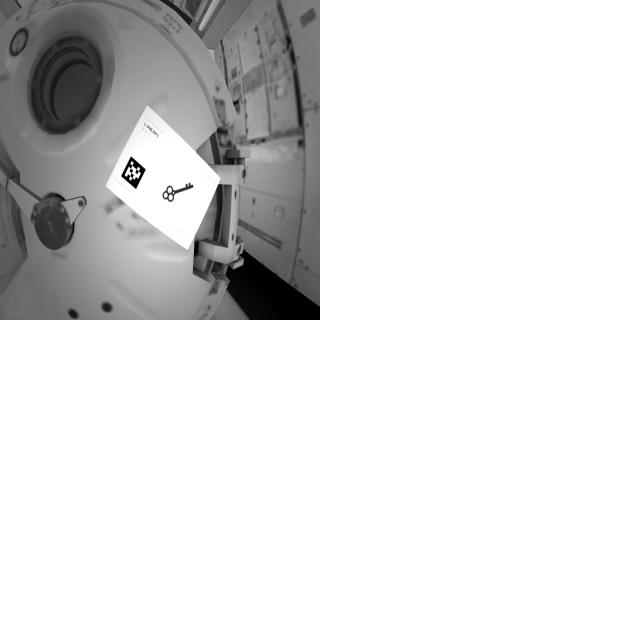key: (157, 169, 203, 215)
